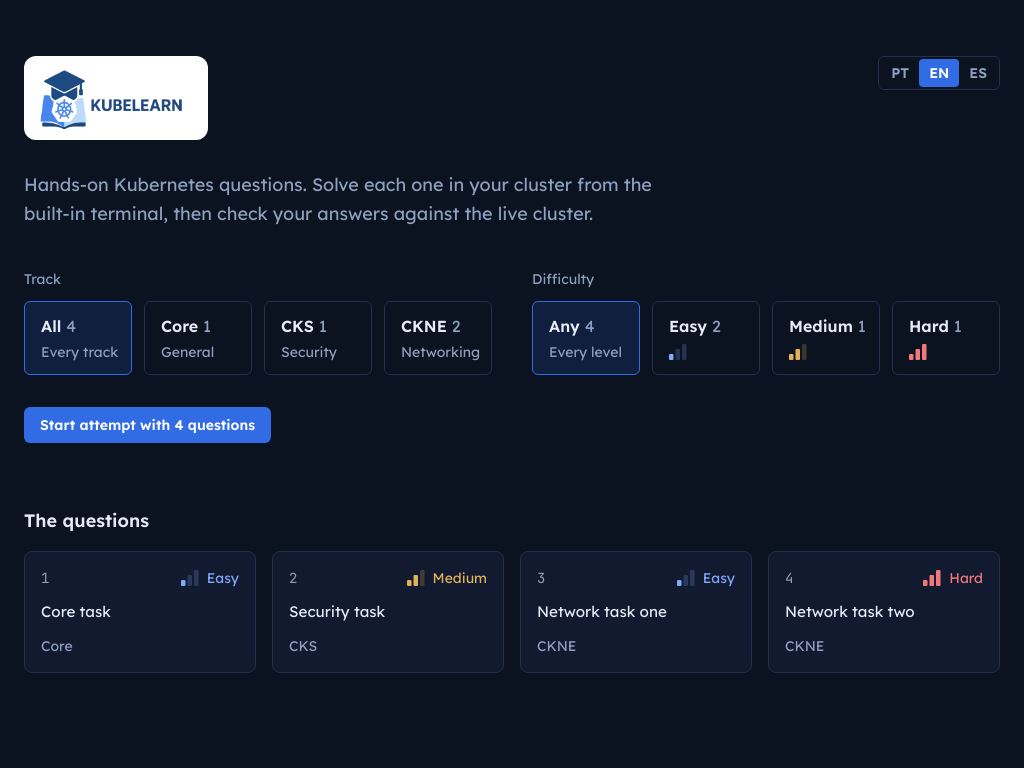
Test: tracks › choosing a track limits the list and the attempt to it
This screenshot has width=1024, height=768.
Expected: the heading "Security task" is shown, [289, 602, 385, 620]
Click the radio button with aria-label "CKNE track, 2 questions": (438, 338) [384, 300, 492, 374]
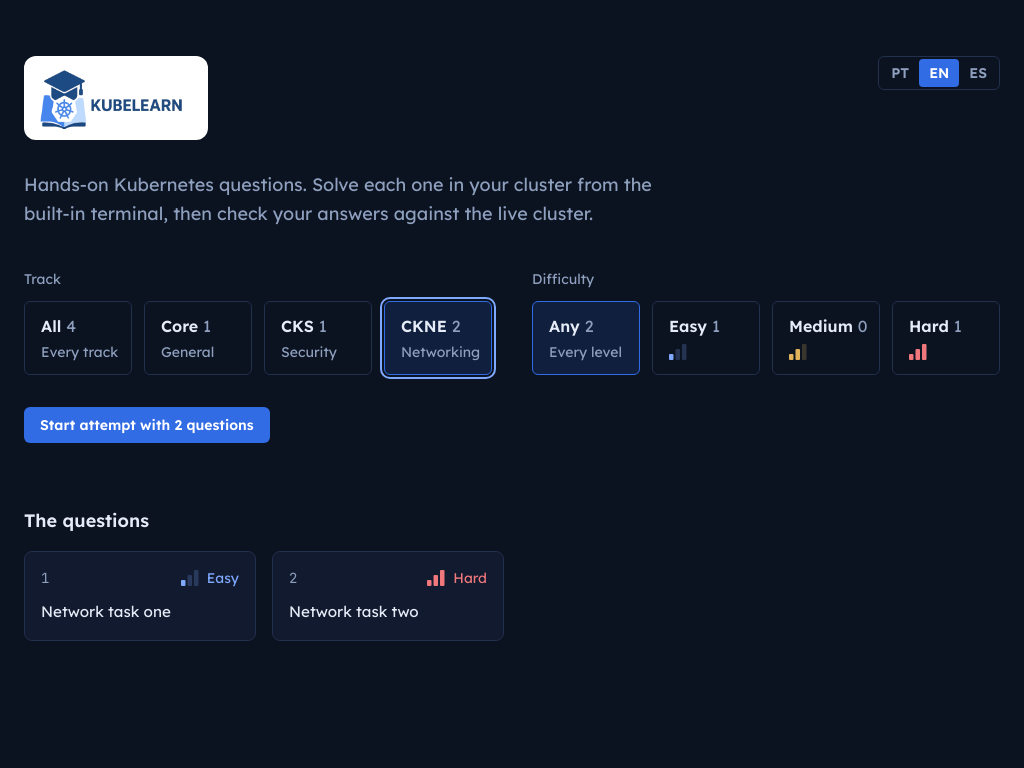
Result: the number of list items is 2 at [24, 550, 256, 641]; [272, 550, 504, 641]
Result: the heading "Security task" is gone
Result: the button with aria-label "start quiz simulation" reads "Start attempt with 2 questions"
Click the button with aria-label "start quiz simulation": (147, 424) [24, 406, 270, 442]
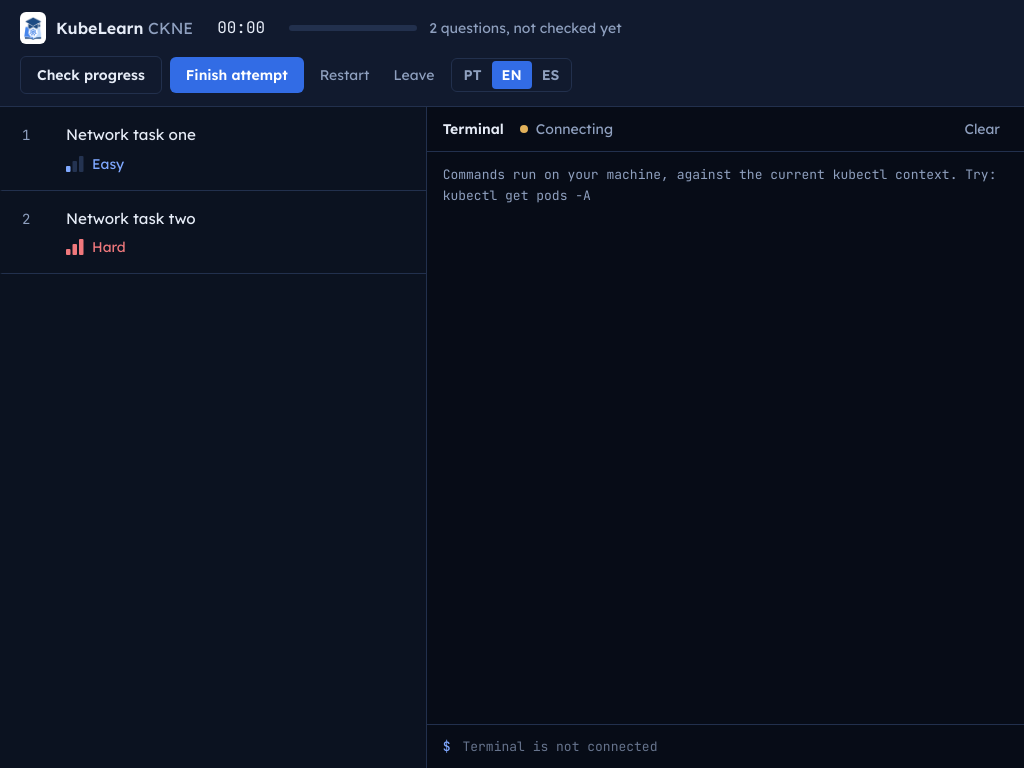
Result: the button with aria-label "finish current attempt" is shown
Result: the number of list items is 2 at [0, 107, 426, 191]; [0, 191, 426, 274]
Click the button with aria-label "finish current attempt": (237, 75) [170, 57, 304, 93]
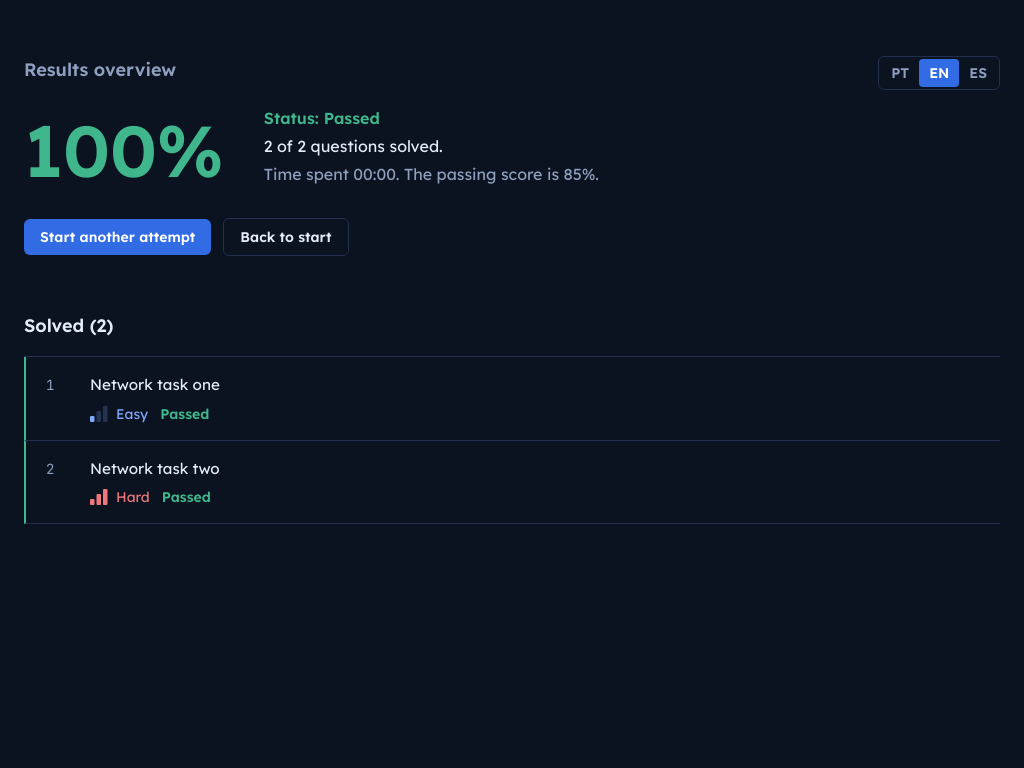
Result: the text "2 of 2 questions solved." is shown at [264, 136, 443, 156]
